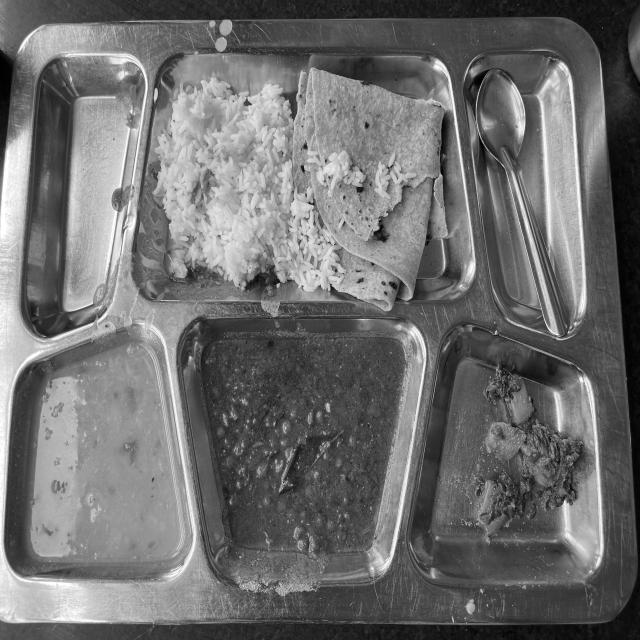100.7- Food Left: (26, 30, 603, 598)
